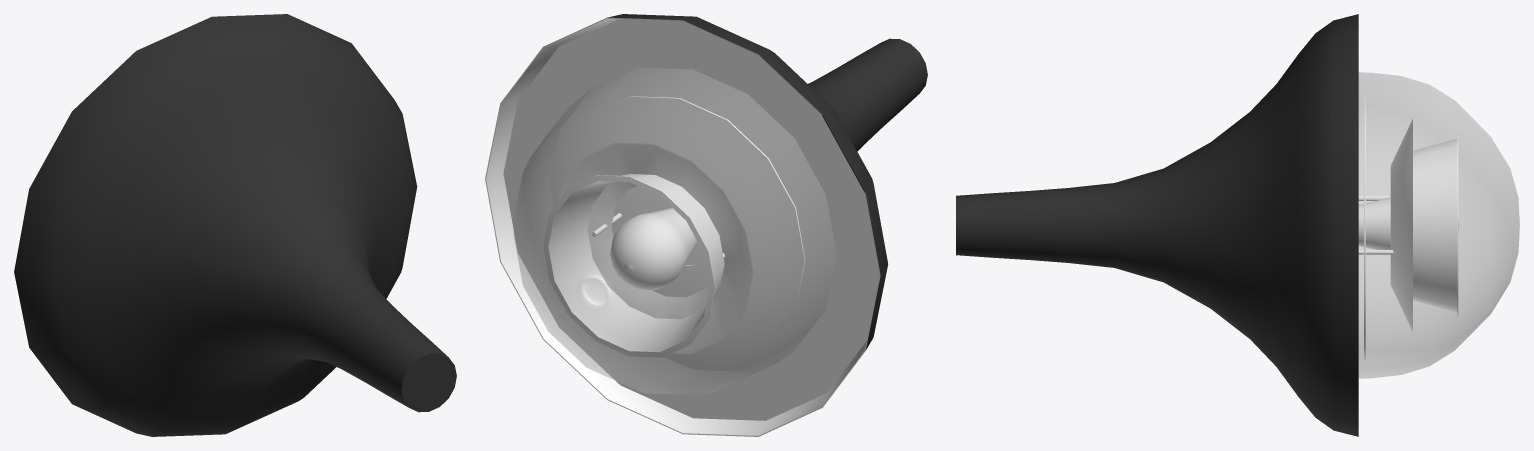
File: Kleine_Glocke.obj
3 views of the same model, side by side, from view 1: azimuth 30°, elevation 25°; view 2: azimuth 150°, elevation 25°; view 3: azimuth 270°, elevation 25° (orthographic). The views are drawn at different scales.
Visible parts, largest first — view 1: Kleine_Glocke_LED._16_Segmente_BezierCurve.005; view 2: Kleine_Glocke_LED._16_Segmente_BezierCurve.005, Kleine_Glocke_LED_16_Segmente_Glas_BezierCurve.001, Lampeninneres.001_BezierCurve.006; view 3: Kleine_Glocke_LED._16_Segmente_BezierCurve.005, Kleine_Glocke_LED_16_Segmente_Glas_BezierCurve.001, Lampeninneres.001_BezierCurve.006.
Part boxes in pixels (bbox=[...]): Kleine_Glocke_LED._16_Segmente_BezierCurve.005: bbox=[14, 14, 456, 436]; Kleine_Glocke_LED._16_Segmente_BezierCurve.005: bbox=[485, 14, 927, 436]; Kleine_Glocke_LED_16_Segmente_Glas_BezierCurve.001: bbox=[513, 68, 836, 394]; Lampeninneres.001_BezierCurve.006: bbox=[543, 96, 805, 362]; Kleine_Glocke_LED._16_Segmente_BezierCurve.005: bbox=[956, 14, 1358, 436]; Kleine_Glocke_LED_16_Segmente_Glas_BezierCurve.001: bbox=[1358, 72, 1519, 378]; Lampeninneres.001_BezierCurve.006: bbox=[1358, 91, 1459, 359].
Bounding box in the file's own units: 0.4318 × 0.4318 × 0.5752.
Materials: 4 (3 with a texture image).
